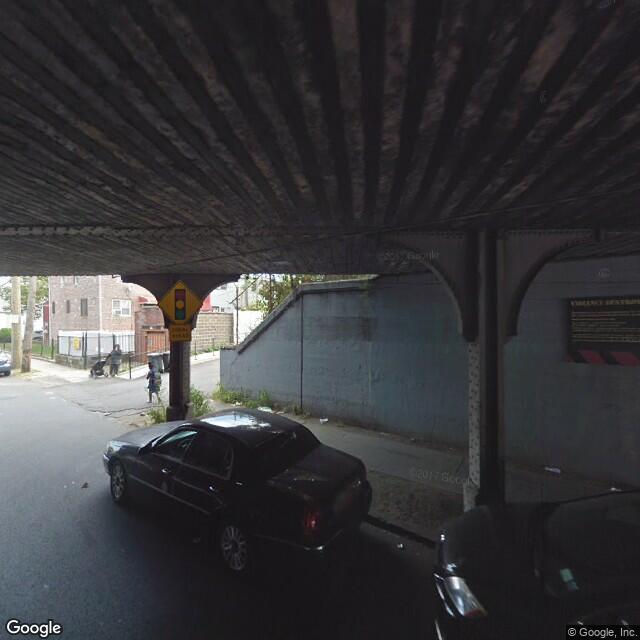litter: (255, 403, 282, 413), (541, 463, 562, 473), (395, 541, 407, 552), (318, 414, 331, 424), (608, 484, 624, 492), (189, 536, 202, 544), (234, 399, 247, 406), (447, 442, 453, 452)
